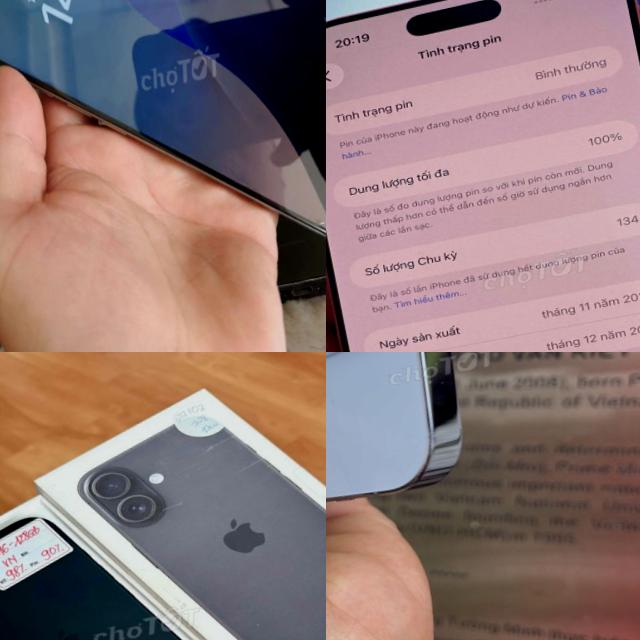gen_12_13: (326, 352, 489, 543)
gen_15: (0, 0, 326, 335)
gen_16: (0, 518, 181, 640)
gen_17: (326, 0, 640, 352)
